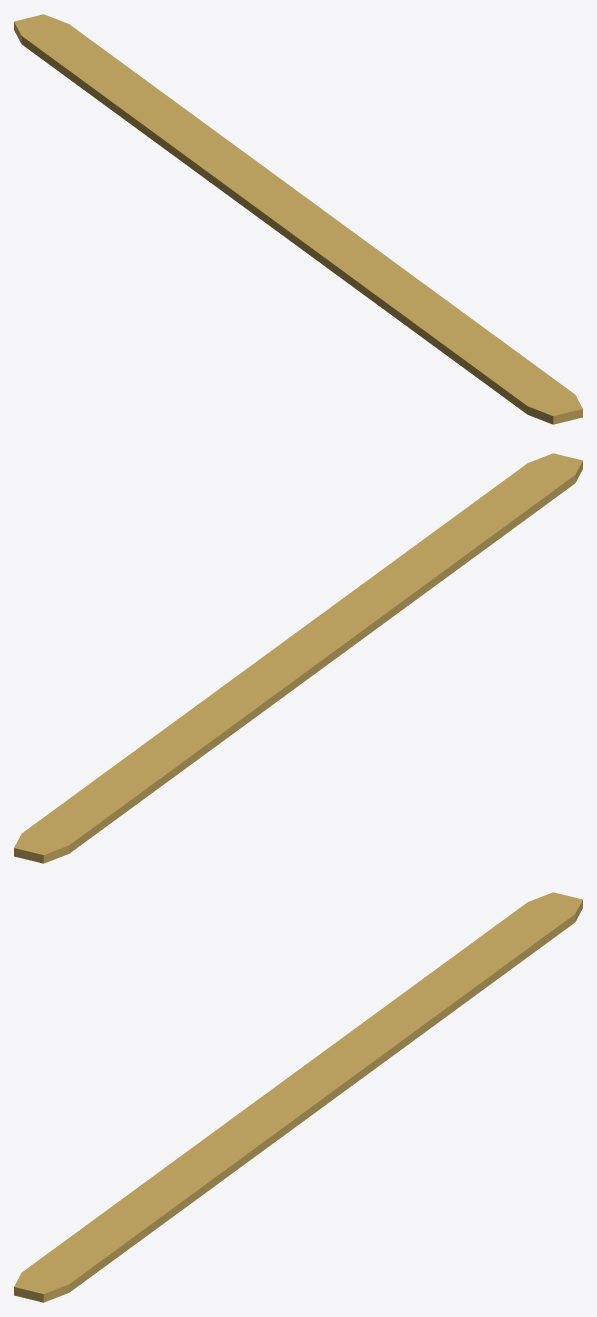
Rendered from Popsicle Stick.fbx.
3 renders of one model, top to bottom at view 1: azimuth 30°, elevation 25°; view 2: azimuth 150°, elevation 25°; view 3: azimuth 330°, elevation 25°, orthographic.
Visible parts, largest first — view 1: Popsicle Stick; view 2: Popsicle Stick; view 3: Popsicle Stick.
Boxes of the visible parts, x1,y1,x2,y2 form: Popsicle Stick: (14, 14, 582, 424); Popsicle Stick: (14, 453, 582, 863); Popsicle Stick: (14, 892, 582, 1302).
Size of the model in its own units: 0.5119 by 0.0876 by 10.03.
